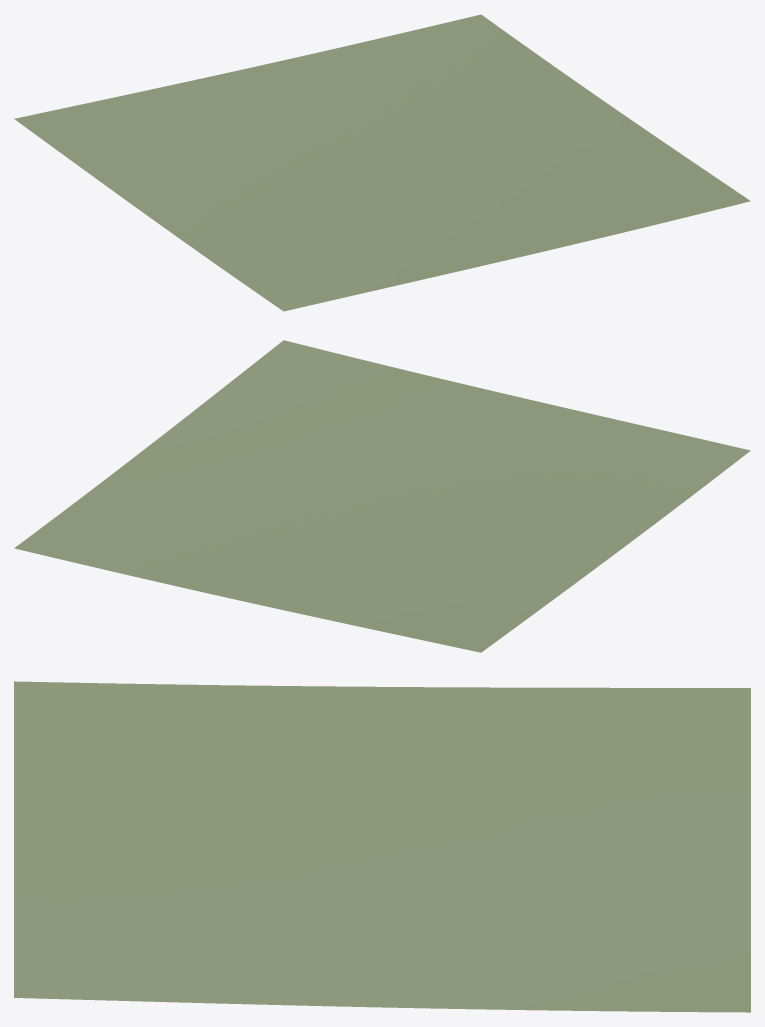
File: expanse-20-27.glb
The picture shows the model from 3 angles, top to bottom: view 1: azimuth 30°, elevation 25°; view 2: azimuth 150°, elevation 25°; view 3: azimuth 270°, elevation 25°; orthographic projection. The views are drawn at different scales.
Visible parts, largest first — view 1: expanse-20-27; view 2: expanse-20-27; view 3: expanse-20-27.
Boxes of the visible parts, bbox=[...] form: expanse-20-27: bbox=[14, 14, 750, 311]; expanse-20-27: bbox=[14, 340, 750, 652]; expanse-20-27: bbox=[14, 681, 750, 1012].
Bounding box in the file's own units: 256 × 7.51 × 256.
